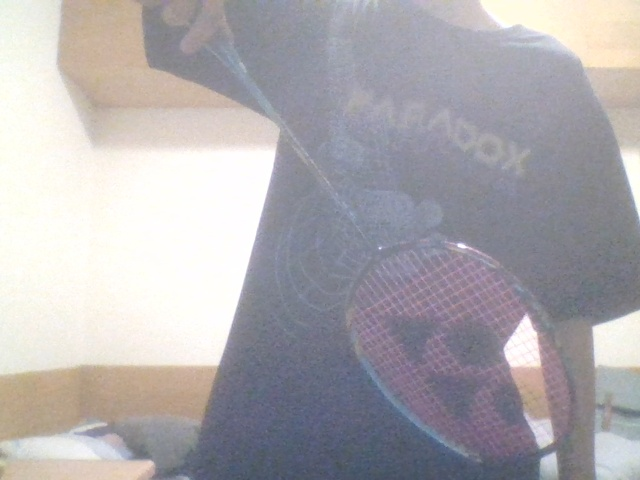human: (139, 1, 640, 480)
racket: (161, 1, 577, 466)
